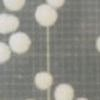white: (8, 30, 32, 56), (34, 3, 58, 29), (31, 70, 56, 92), (53, 81, 75, 100), (2, 0, 30, 13), (0, 39, 12, 68), (5, 13, 21, 33), (42, 0, 67, 11), (73, 91, 91, 100), (0, 23, 11, 36), (94, 32, 100, 55), (0, 12, 8, 26)
